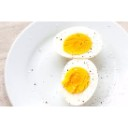begg: (61, 59, 98, 106), (53, 30, 104, 57)
